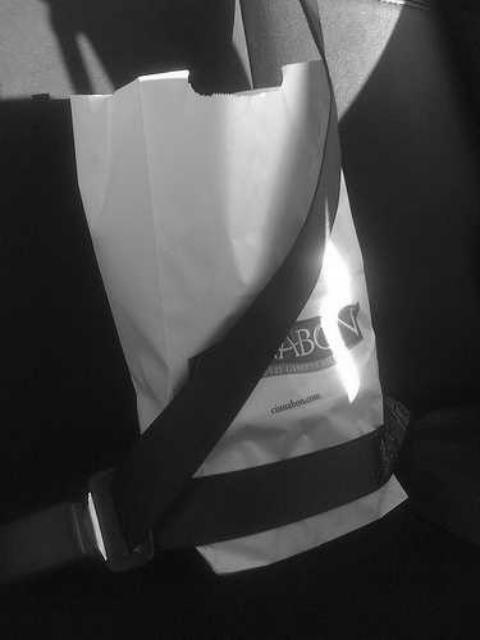Seatbelt: (0, 0, 406, 590)
